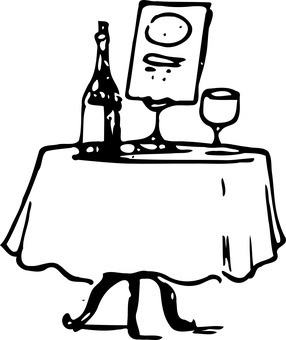bottle: (69, 16, 127, 162)
diningtable: (15, 133, 286, 332)
